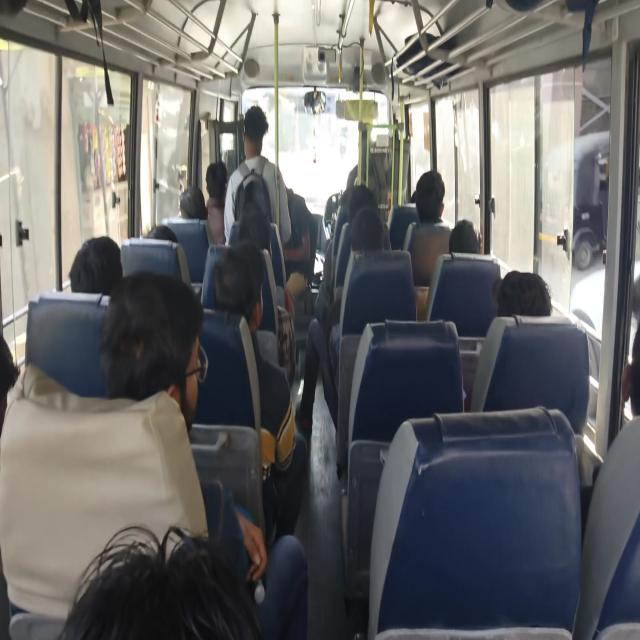person: (56, 516, 300, 640), (109, 282, 198, 393), (275, 179, 324, 300), (0, 324, 78, 395), (69, 226, 121, 292), (500, 272, 545, 331), (424, 171, 466, 232), (456, 206, 497, 266), (238, 110, 282, 160), (625, 320, 640, 461), (214, 258, 254, 305), (352, 206, 386, 261), (203, 157, 239, 208), (242, 227, 273, 276), (348, 187, 377, 239), (338, 188, 371, 222), (180, 197, 209, 235), (250, 199, 278, 235), (146, 222, 174, 255), (408, 180, 434, 210)
